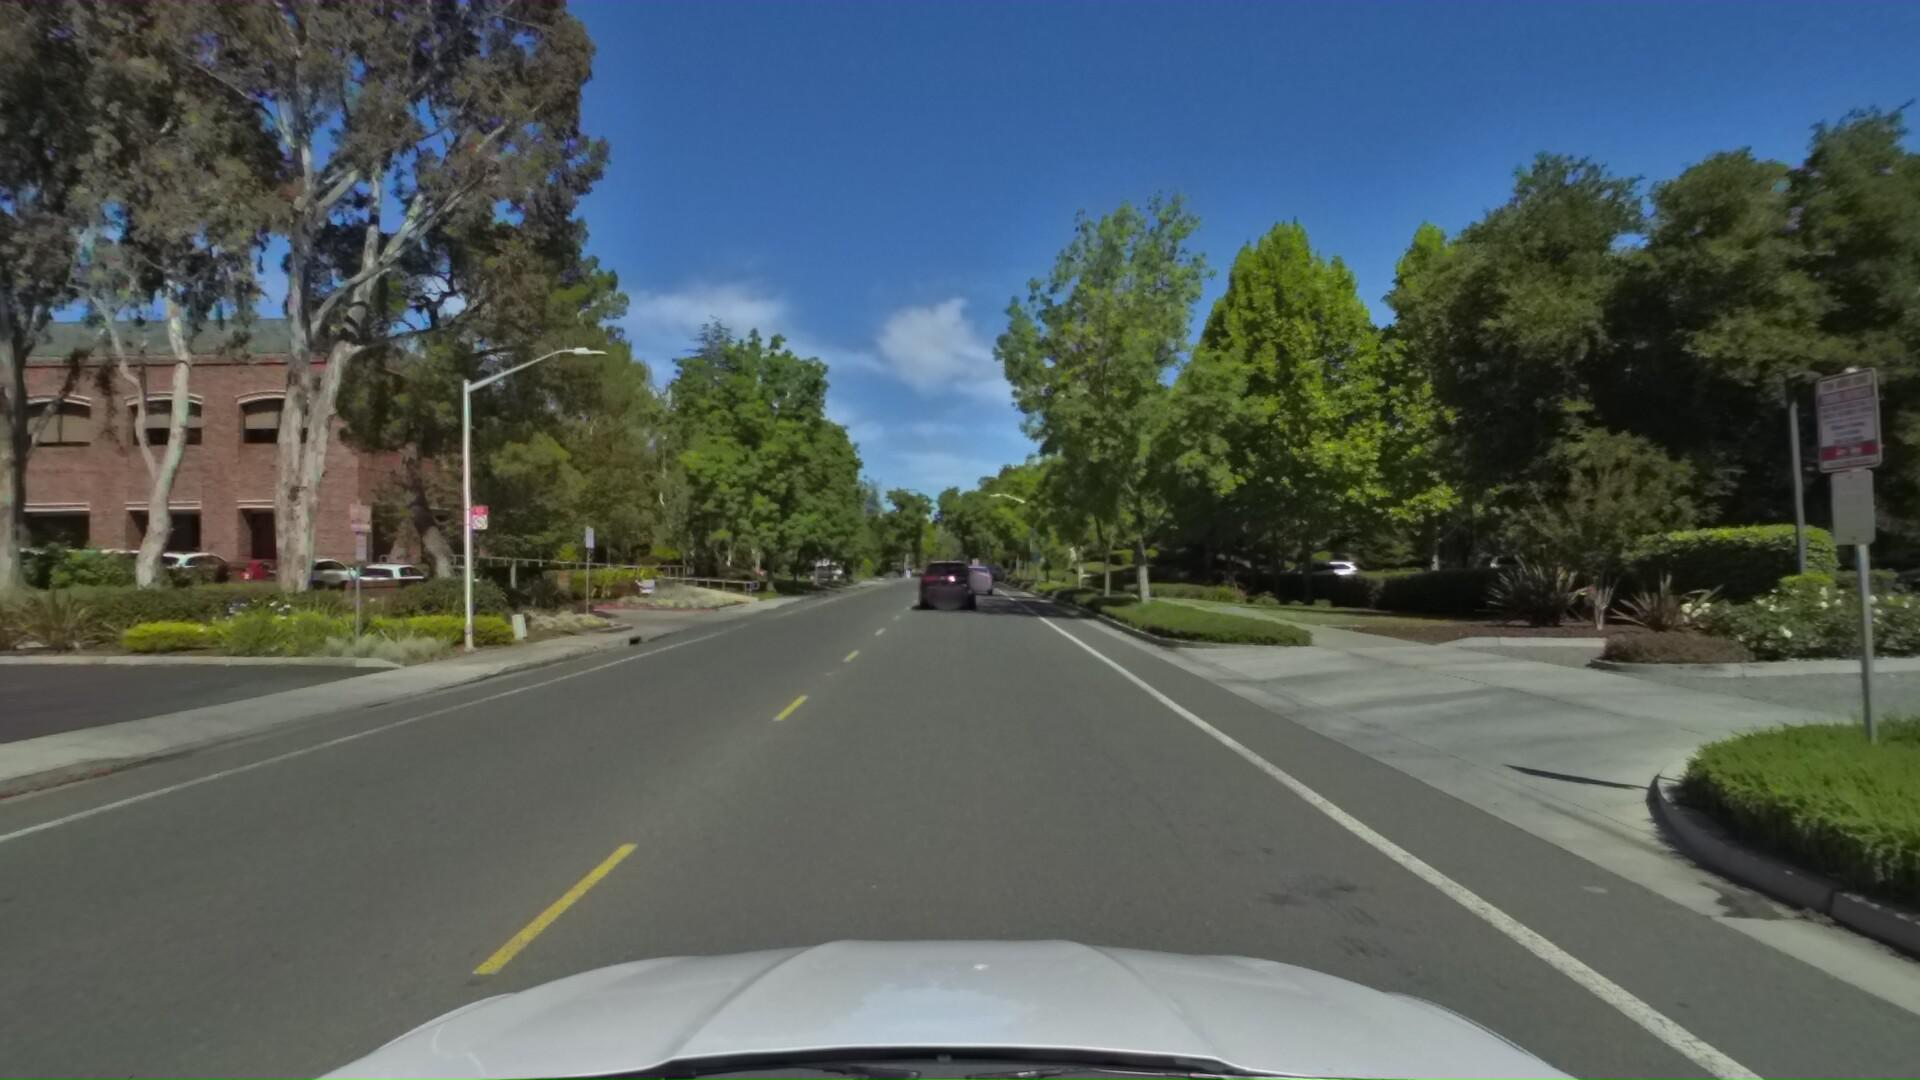car: (913, 559, 978, 616), (955, 564, 996, 599)
